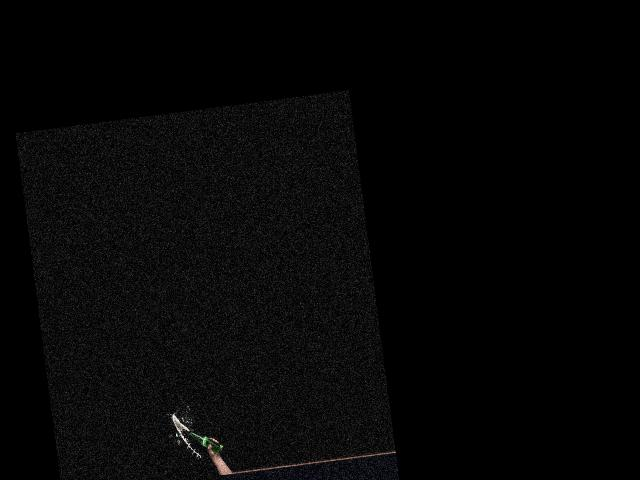beer: (190, 427, 224, 456)
